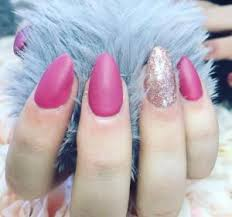nail: (87, 53, 124, 115), (33, 53, 73, 108), (144, 45, 176, 109), (176, 55, 203, 101), (10, 28, 30, 54)
